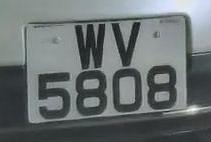0: (108, 64, 148, 114)
5: (33, 67, 75, 122)
8: (72, 68, 111, 120), (144, 60, 179, 114)
V: (108, 15, 146, 69)
W: (71, 19, 108, 71)
